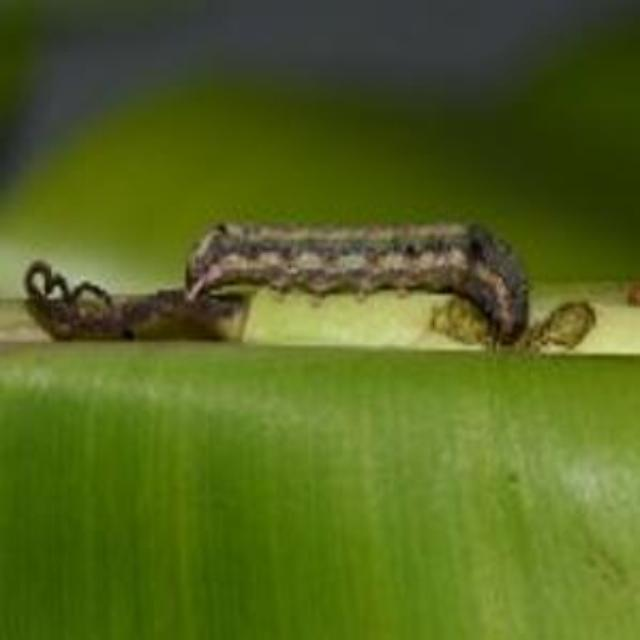Tobacco cutworm: (91, 166, 554, 424)
